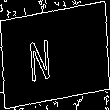N_N: (43, 27, 67, 83)
